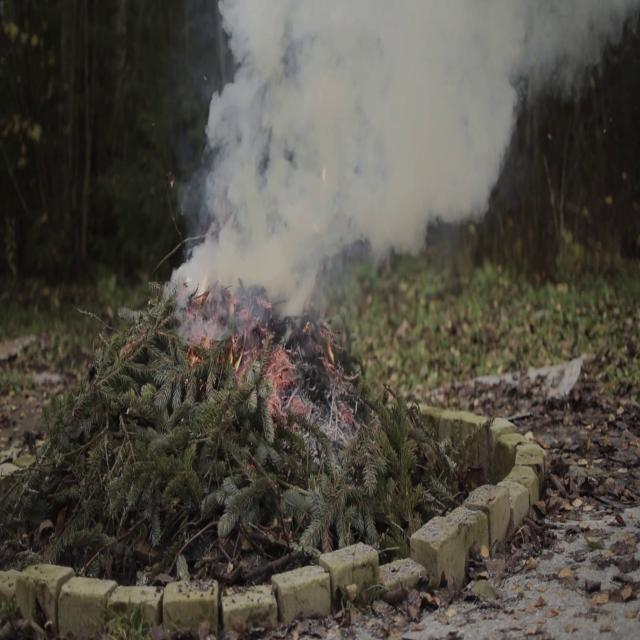Smoke: (174, 0, 618, 308)
